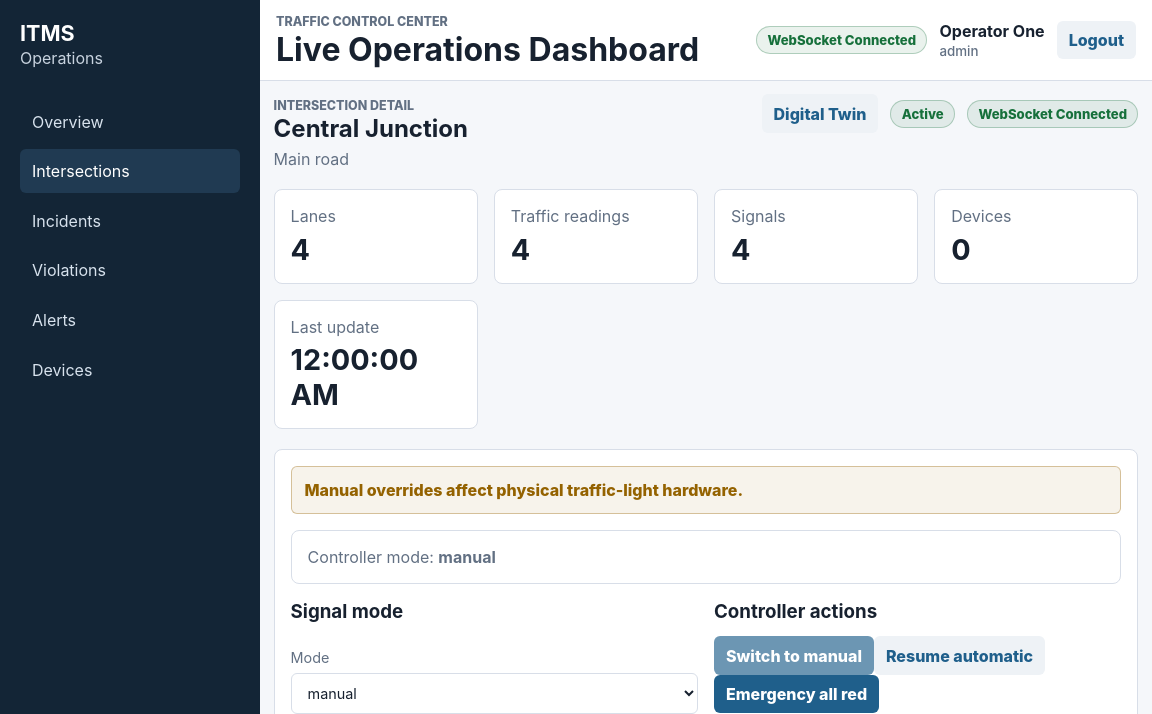
Test case: digital twin page › links to the digital twin from intersection detail
Click the link "Digital Twin" at {"x": 820, "y": 114}, box [762,94,878,133]
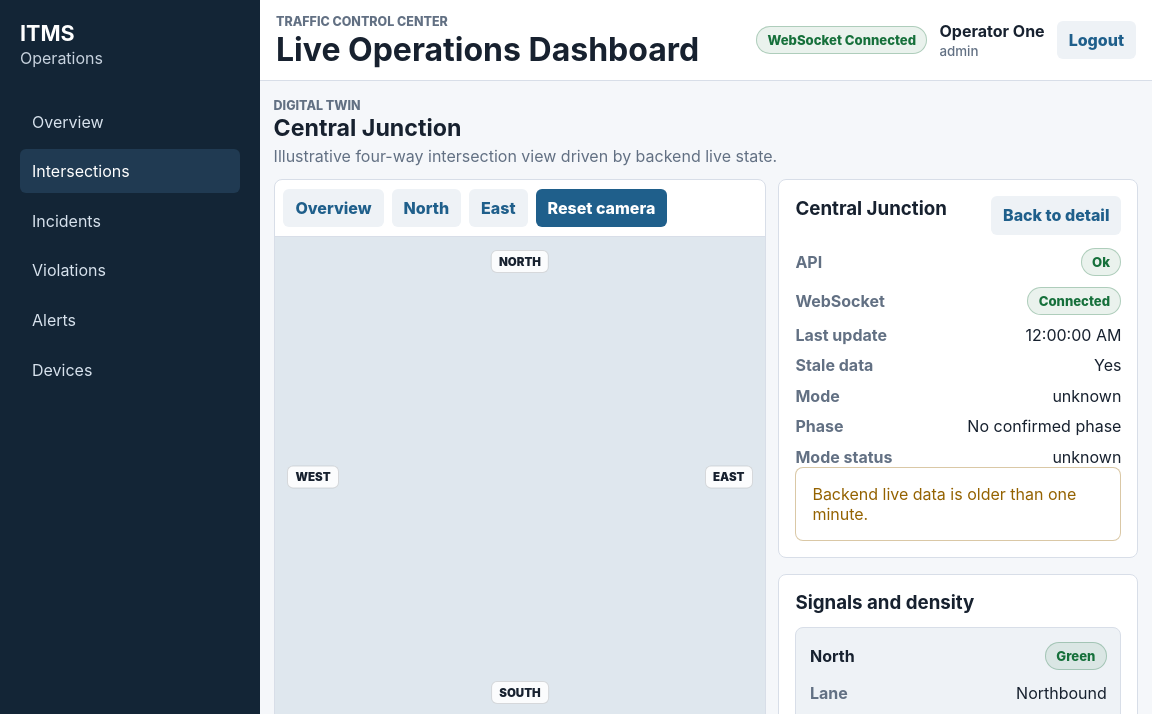
Expected: the text "Illustrative four-way intersection" is shown, [274,146,777,166]
